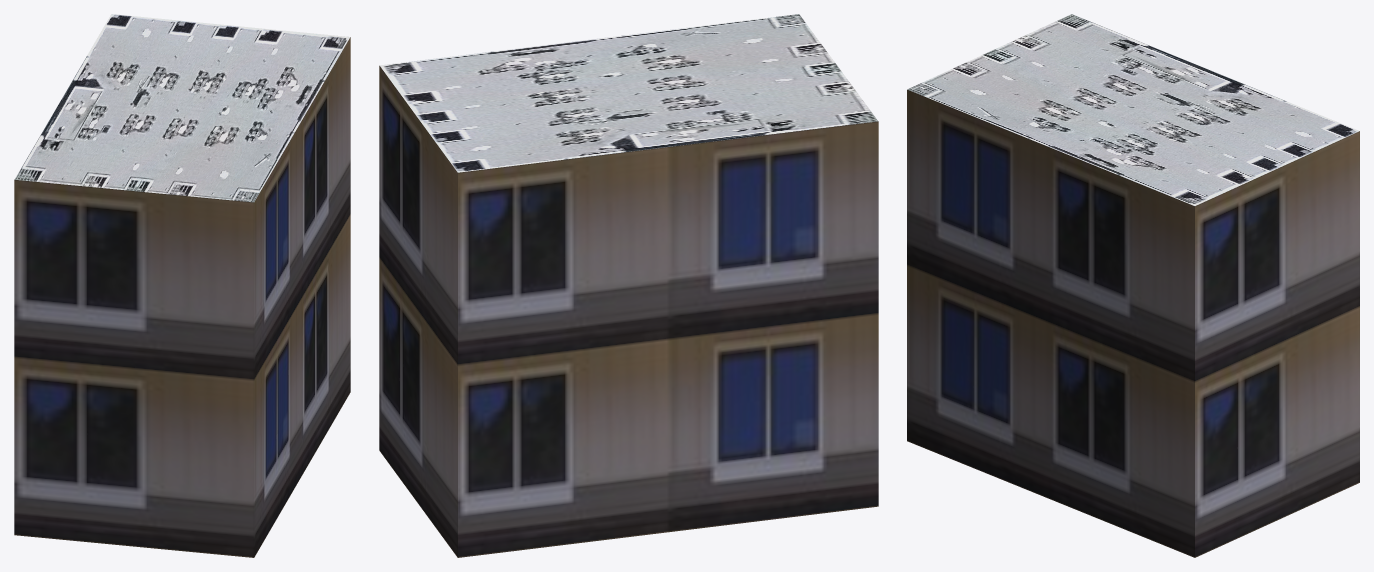
The model's file is ResTex__1789.fbx.
3 renders of one model, left to right at view 1: azimuth 30°, elevation 25°; view 2: azimuth 150°, elevation 25°; view 3: azimuth 270°, elevation 25°, orthographic. The views are drawn at different scales.
Visible parts, largest first — view 1: CityEngineMaterial_5_m, CityEngineMaterial_8_m; view 2: CityEngineMaterial_5_m, CityEngineMaterial_8_m; view 3: CityEngineMaterial_5_m, CityEngineMaterial_8_m.
Boxes of the visible parts, left/top/right/bottom form: CityEngineMaterial_5_m: left=14, top=37, right=350, bottom=557; CityEngineMaterial_8_m: left=14, top=14, right=350, bottom=202; CityEngineMaterial_5_m: left=379, top=66, right=878, bottom=557; CityEngineMaterial_8_m: left=379, top=14, right=877, bottom=172; CityEngineMaterial_5_m: left=907, top=89, right=1359, bottom=557; CityEngineMaterial_8_m: left=907, top=14, right=1359, bottom=205.
Bounding box in the file's own units: 7.04 × 6 × 7.
Materials: 2 (2 with a texture image).
